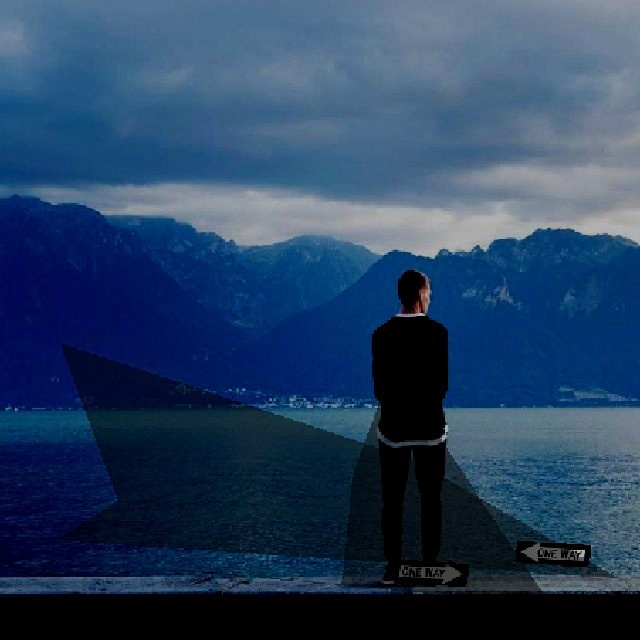ONE_WAY_ left: (514, 539, 590, 566)
ONE_WAY_ right: (392, 558, 468, 585)
